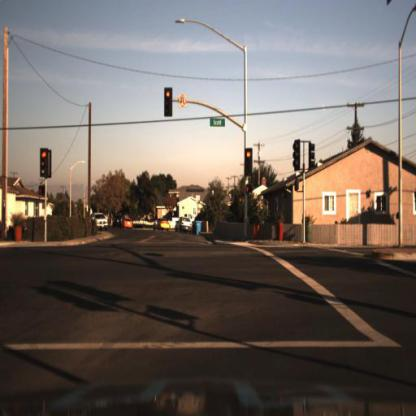car: (89, 214, 108, 236), (176, 215, 193, 235), (155, 217, 171, 232), (123, 217, 133, 233)
trafficLight-Red: (40, 146, 50, 180), (163, 88, 173, 119), (244, 147, 254, 178)
